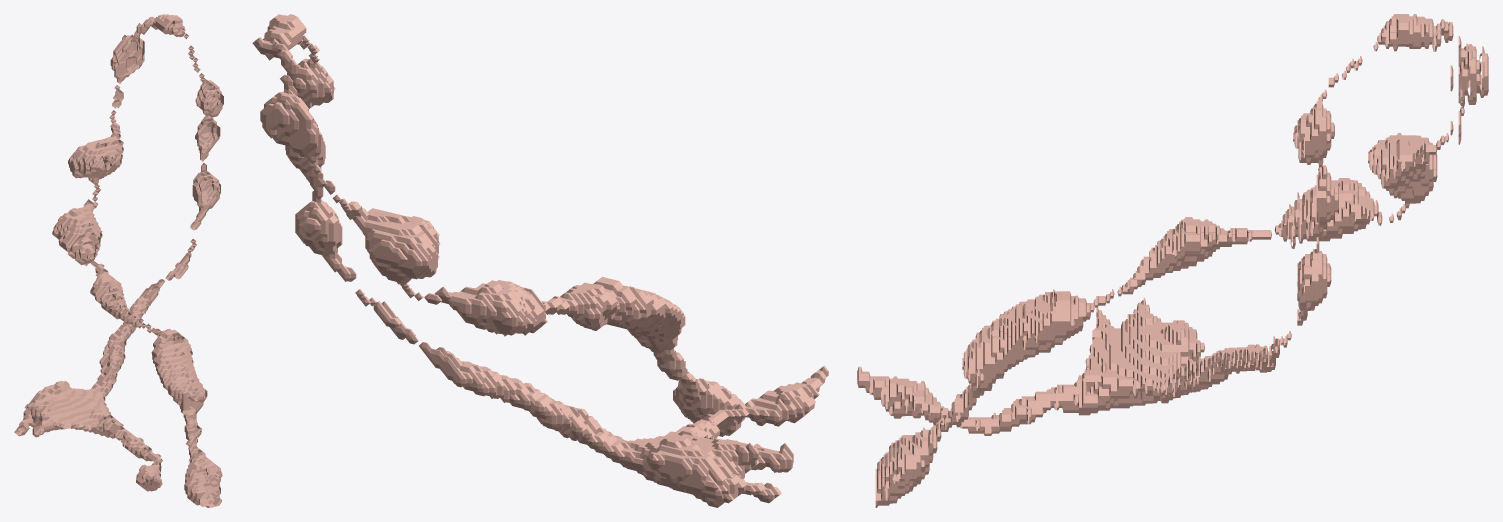
Rendered from SVV_SMBVR.gltf.
3 renders of one model, left to right at view 1: azimuth 30°, elevation 25°; view 2: azimuth 150°, elevation 25°; view 3: azimuth 270°, elevation 25°, orthographic. The views are drawn at different scales.
Parts seen in each view (by area): view 1: SMBVR; view 2: SMBVR; view 3: SMBVR.
Part boxes in pixels (box(x1,y1,x2,y2)): SMBVR: box(14, 14, 223, 507); SMBVR: box(252, 14, 828, 507); SMBVR: box(857, 14, 1488, 507).
Size of the model in its own units: 48664 by 62494 by 61609.
